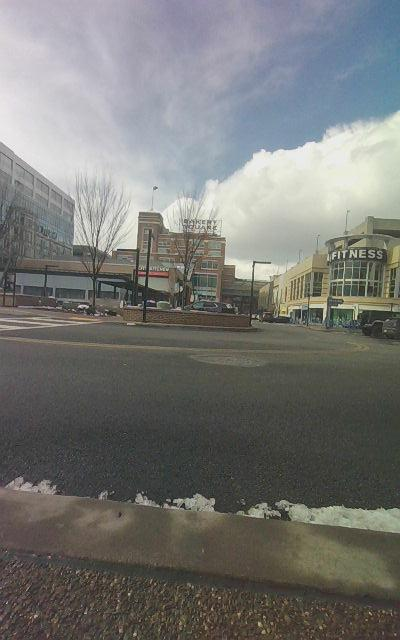curb: (0, 489, 399, 639)
road: (0, 312, 399, 533)
